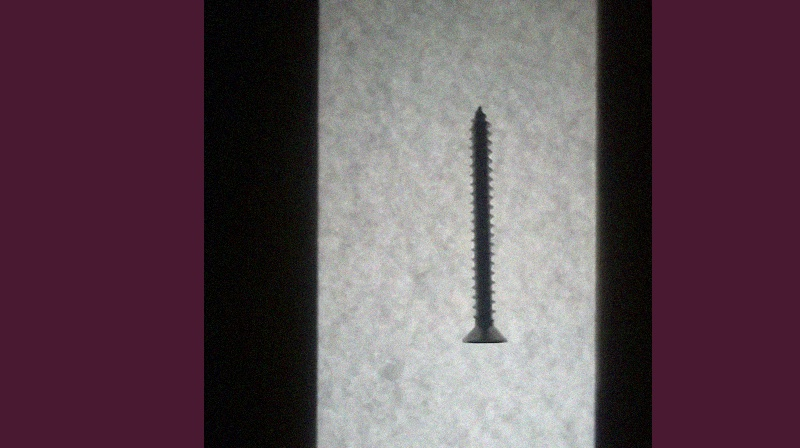S002: (459, 103, 510, 346)
